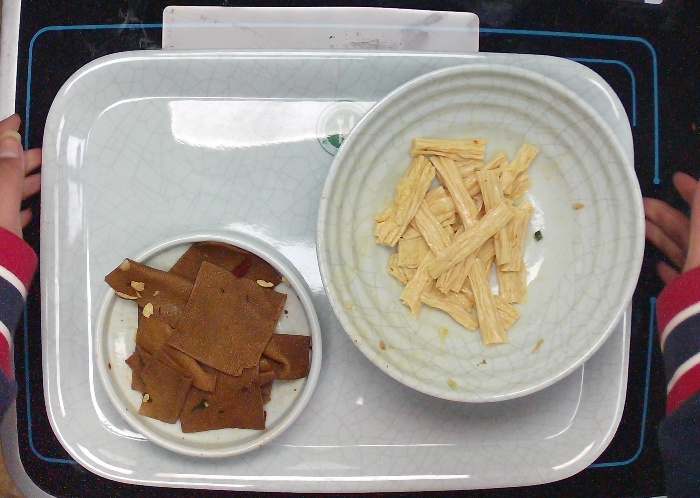JYsf-Da_Tang_Wan: (314, 61, 648, 405)
JYsf-Xiao_Yuan_Pan: (91, 231, 324, 461)
